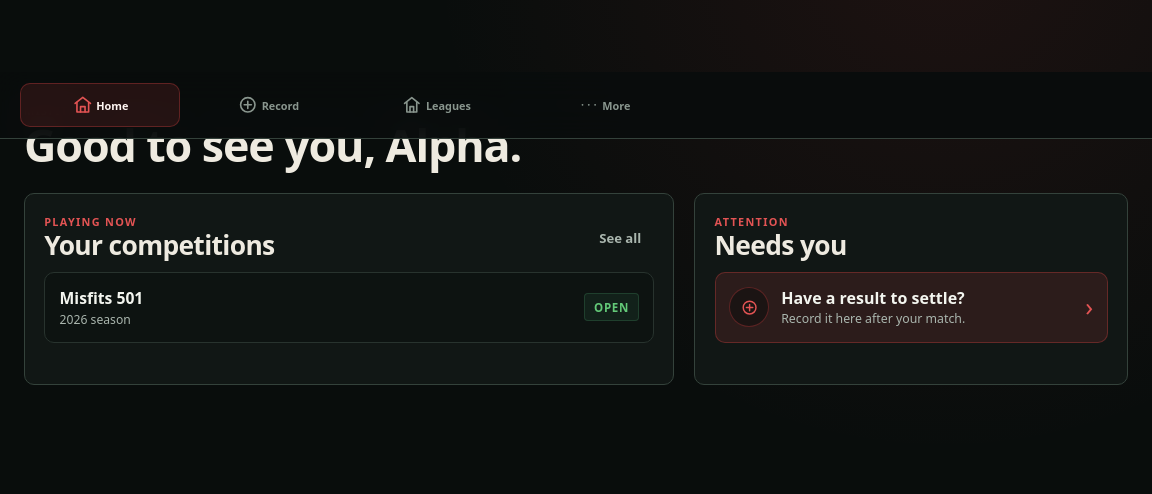
Test case: private member navigation › groups the approved member home and Record surfaces as a club record book
Expected: the heading "Good to see you, Alpha." is shown, top-left (24, 122), bottom-right (536, 168)
Expected: the heading "Your competitions" is shown, top-left (44, 231), bottom-right (275, 260)
Click the button "Record" at {"x": 268, "y": 105}, box top-left (188, 83), bottom-right (348, 127)
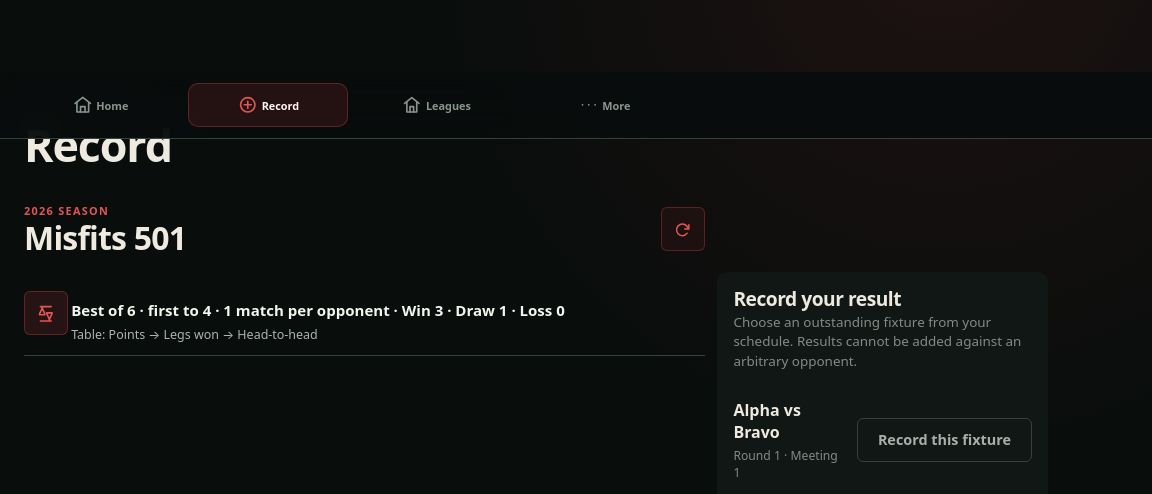
Now the heading "Record your result" is shown, box top-left (733, 285), bottom-right (901, 312)
